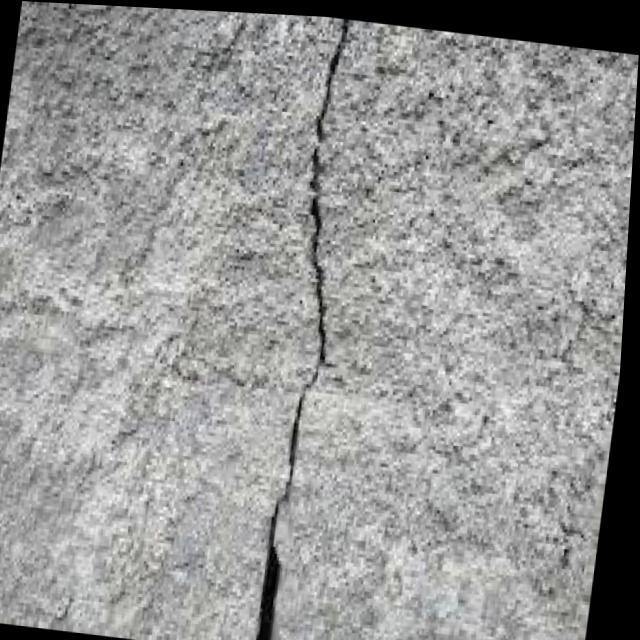Crack: (248, 14, 389, 640)
